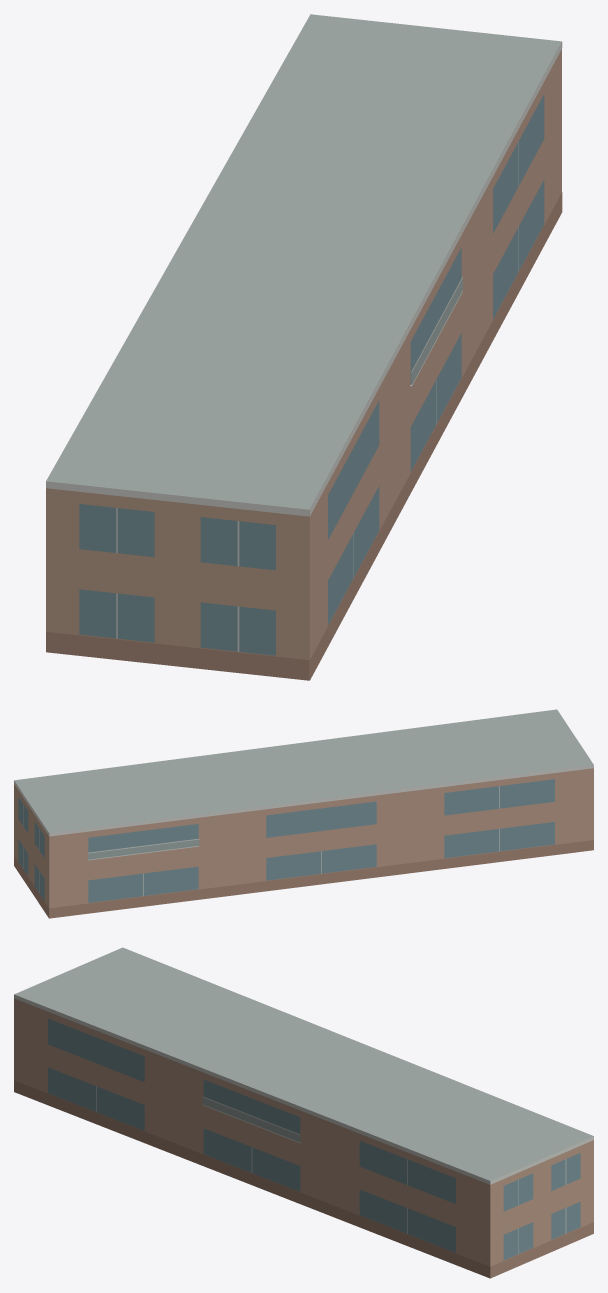
File: survey-upis-32518289.glb
3 views of the same model, one above another, from view 1: azimuth 30°, elevation 25°; view 2: azimuth 150°, elevation 25°; view 3: azimuth 270°, elevation 25° (orthographic). The views are drawn at different scales.
Parts seen in each view (by area): view 1: survey-upis-32518289.tmp; view 2: survey-upis-32518289.tmp; view 3: survey-upis-32518289.tmp.
Part boxes in pixels (x1,y1,x2,y2): survey-upis-32518289.tmp: (46, 14, 562, 680); survey-upis-32518289.tmp: (14, 709, 593, 918); survey-upis-32518289.tmp: (14, 947, 593, 1278).
Size of the model in its own units: 31.32 by 6.1 by 32.86.
